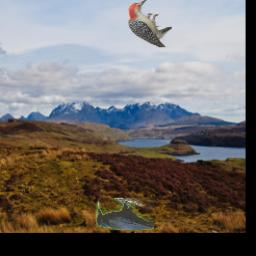Crow: (96, 198, 154, 230)
Woodpecker: (126, 0, 172, 48)
